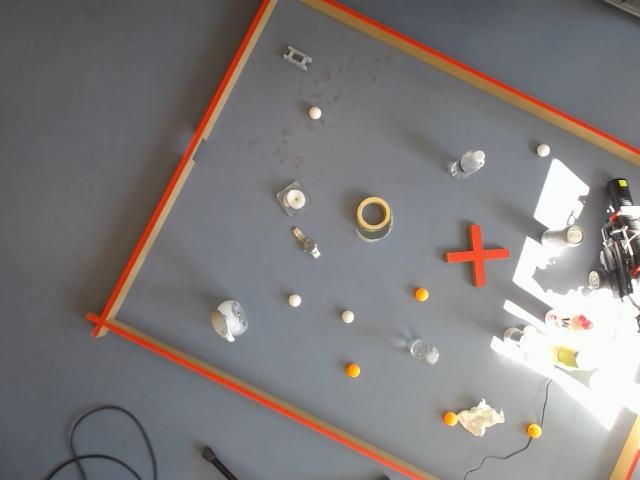orange: (344, 362, 362, 380), (413, 287, 431, 303), (526, 423, 542, 440), (443, 411, 457, 427)
robot: (588, 178, 640, 330)
robot-front: (607, 178, 632, 207)
white: (534, 142, 552, 159), (340, 308, 356, 326), (287, 293, 303, 310), (307, 106, 323, 122), (589, 270, 599, 285)
